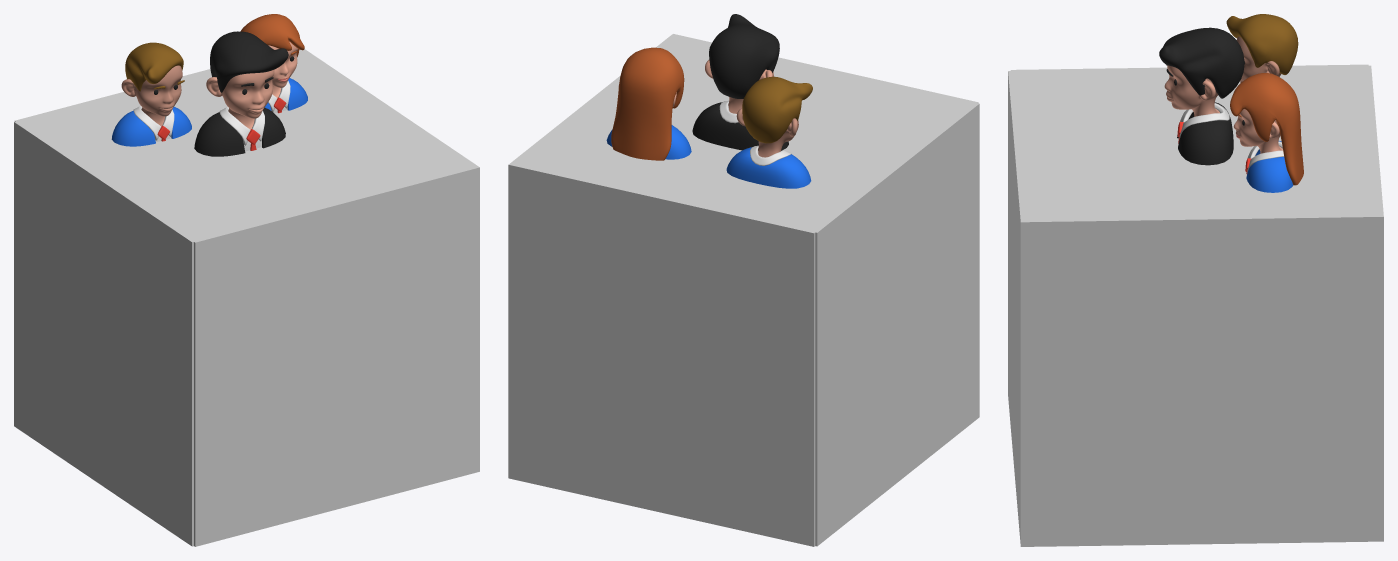
Rendered from leadership-team-3d-animated-icon-330589945526.glb.
The picture shows the model from 3 angles, left to right: view 1: azimuth 30°, elevation 25°; view 2: azimuth 150°, elevation 25°; view 3: azimuth 270°, elevation 25°; orthographic projection. The views are drawn at different scales.
Parts seen in each view (by area): view 1: mate 1, mate 3, hair 1, suit 1, body 1, hair 2, body 2, suit 2, hair 3, mate 2, cloth 1, body 3; view 2: mate 2, mate 1, hair 3, hair 1, hair 2, mate 3, suit 2, suit 1, body 2, suit 3; view 3: mate 2, mate 1, mate 3, hair 3, hair 1, hair 2, suit 1, body 1, suit 3, body 3, body 2, cloth 1.
Boxes of the visible parts, x1,y1,x2,y2 form: mate 1: (14,49,475,546); mate 3: (112,49,479,546); hair 1: (210,31,288,92); suit 1: (194,107,285,156); body 1: (206,70,274,129); hair 2: (125,42,183,91); body 2: (121,65,182,126); suit 2: (111,106,191,146); hair 3: (240,14,304,57); mate 2: (14,49,475,237); cloth 1: (219,107,264,151); body 3: (268,41,297,97); mate 2: (508,36,927,546); mate 1: (517,35,979,546); hair 3: (611,47,684,160); hair 1: (709,14,779,98); hair 2: (742,76,812,143); mate 3: (570,34,978,231); suit 2: (726,147,811,188); suit 1: (692,102,788,150); body 2: (736,108,798,157); suit 3: (606,125,691,159); mate 2: (1023,65,1383,546); mate 1: (1010,64,1380,221); mate 3: (1008,66,1378,546); hair 3: (1230,73,1303,185); hair 1: (1159,27,1244,98); hair 2: (1226,14,1298,74); suit 1: (1177,102,1233,165); body 1: (1164,65,1219,116); suit 3: (1246,141,1293,192); body 3: (1233,109,1282,153); body 2: (1236,36,1281,82); cloth 1: (1179,103,1229,138).
Bounding box in the file's own units: 4.2 × 5.43 × 4.23.
